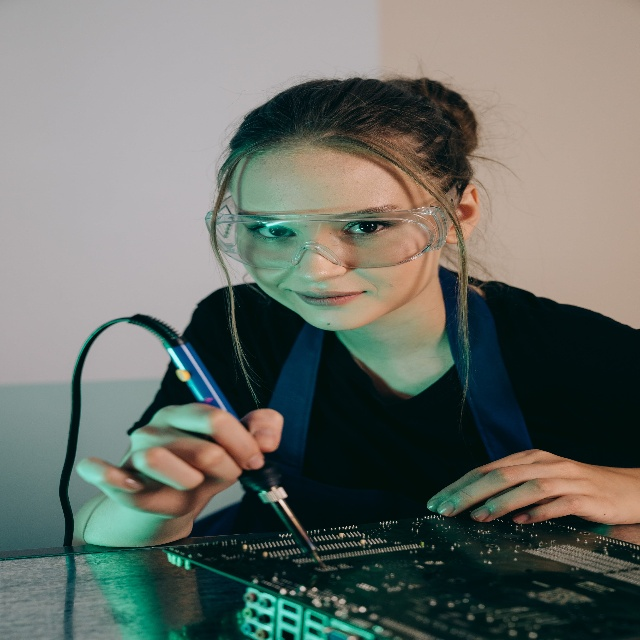Gafas: (204, 203, 456, 291)
Sin_guantes: (423, 404, 639, 526), (71, 399, 285, 493)
